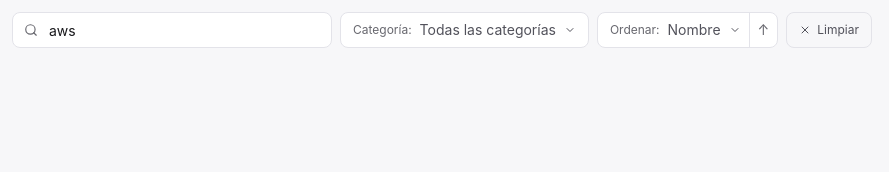
Test: TemplateFilters › limpiar deja la dirección sin parámetros
Click the button "Limpiar".
click(829, 30)  # box x1=786 y1=12 x2=872 y2=48
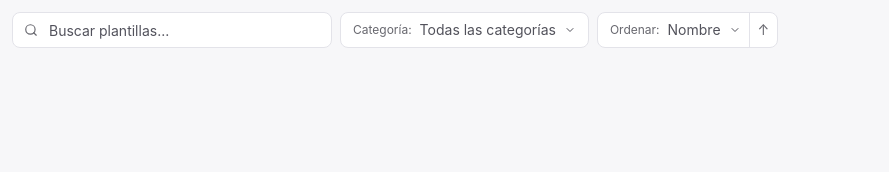
Expected: the field with placeholder "Buscar plantillas..." is empty, x1=12 y1=12 x2=332 y2=48
